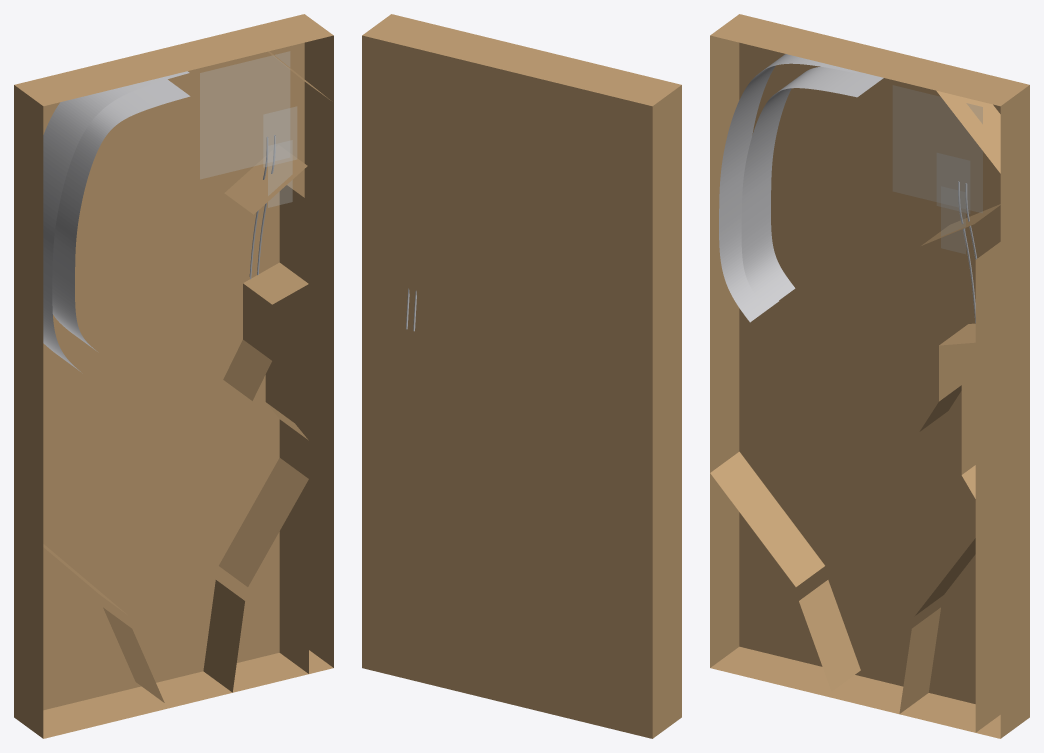
The model's file is playfield.glb.
3 renders of one model, left to right at view 1: azimuth 30°, elevation 25°; view 2: azimuth 150°, elevation 25°; view 3: azimuth 330°, elevation 25°, orthographic.
Parts seen in each view (by area): view 1: floor, walls[0], walls[1], decks[3], tablegen:lanes[0].right, tablegen:lanes[0].left, walls[7], walls[4], walls[6], walls[8], walls[9], decks[2] (+4 smaller); view 2: floor, walls[0]; view 3: floor, walls[0], walls[1], decks[3], tablegen:lanes[0].right, tablegen:lanes[0].left, walls[3], walls[5], walls[6], walls[2], walls[7], walls[8] (+5 smaller).
Part boxes in pixels (x1,y1,x2,y2): floor: [43, 42, 304, 710]; walls[0]: [14, 14, 333, 738]; walls[1]: [279, 185, 308, 673]; decks[3]: [200, 51, 289, 178]; tablegen:lanes[0].right: [52, 79, 190, 351]; tablegen:lanes[0].left: [43, 71, 189, 371]; walls[7]: [223, 262, 308, 400]; walls[4]: [219, 458, 308, 586]; walls[6]: [203, 580, 244, 692]; walls[8]: [265, 292, 294, 422]; walls[9]: [224, 145, 307, 214]; decks[2]: [263, 106, 296, 166]; floor: [362, 35, 652, 738]; walls[0]: [362, 14, 681, 738]; floor: [739, 42, 1000, 703]; walls[0]: [710, 14, 1029, 738]; walls[1]: [975, 242, 1000, 732]; decks[3]: [893, 85, 982, 212]; tablegen:lanes[0].right: [741, 66, 883, 309]; tablegen:lanes[0].left: [719, 54, 858, 322]; walls[3]: [710, 451, 824, 586]; walls[5]: [799, 580, 860, 691]; walls[6]: [899, 607, 940, 713]; walls[2]: [936, 90, 1000, 173]; walls[7]: [919, 323, 975, 431]; walls[8]: [961, 342, 975, 474].
Bounding box in the file's own units: 0.514 × 1.07 × 0.0975.
